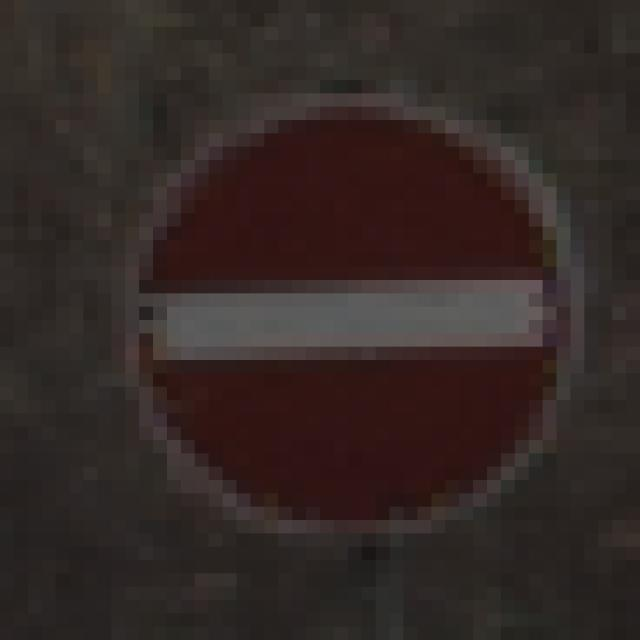No Entry: (71, 68, 572, 574)
